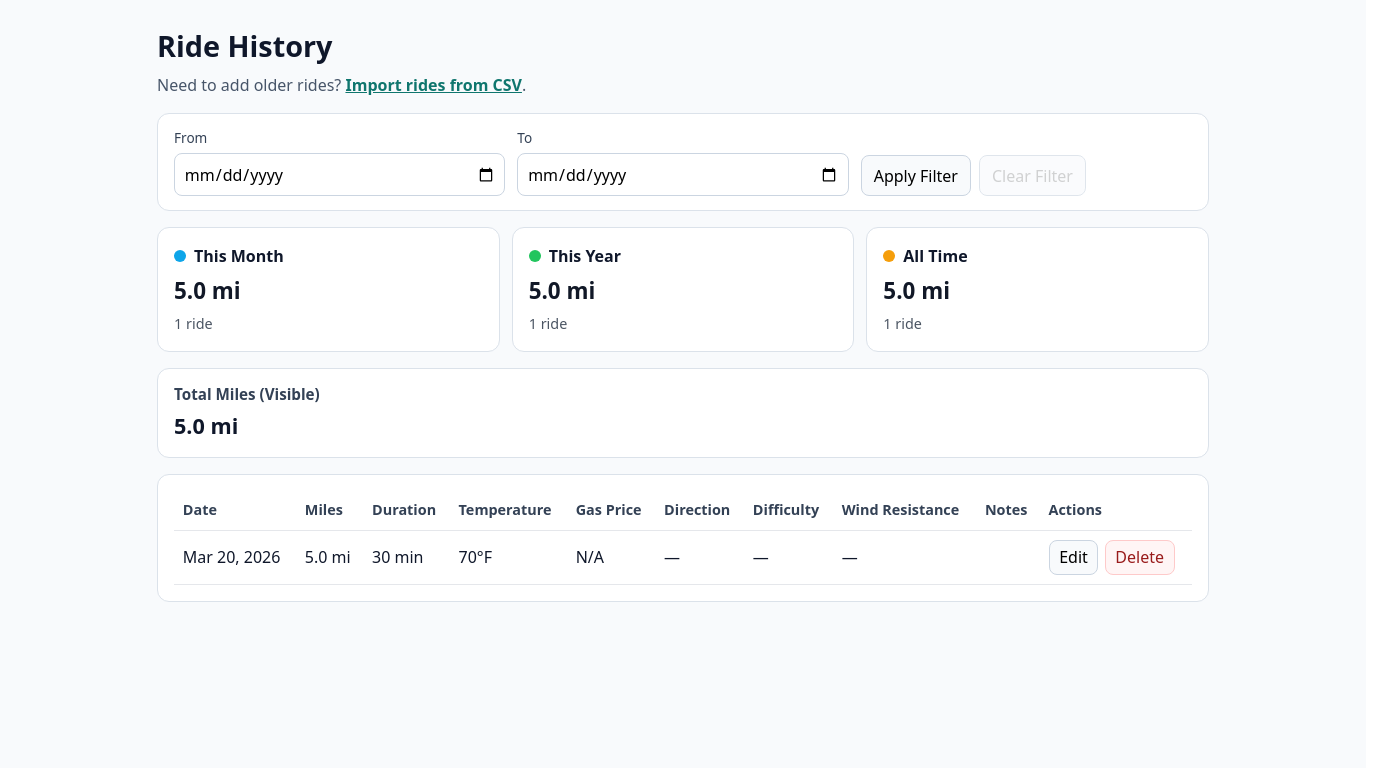
Test case: HistoryPage › should block save and show validation message for invalid miles
This screenshot has width=1378, height=768.
Click the button "Edit" at (1073, 557), box [1048,540,1098,575]
(page scrolled)
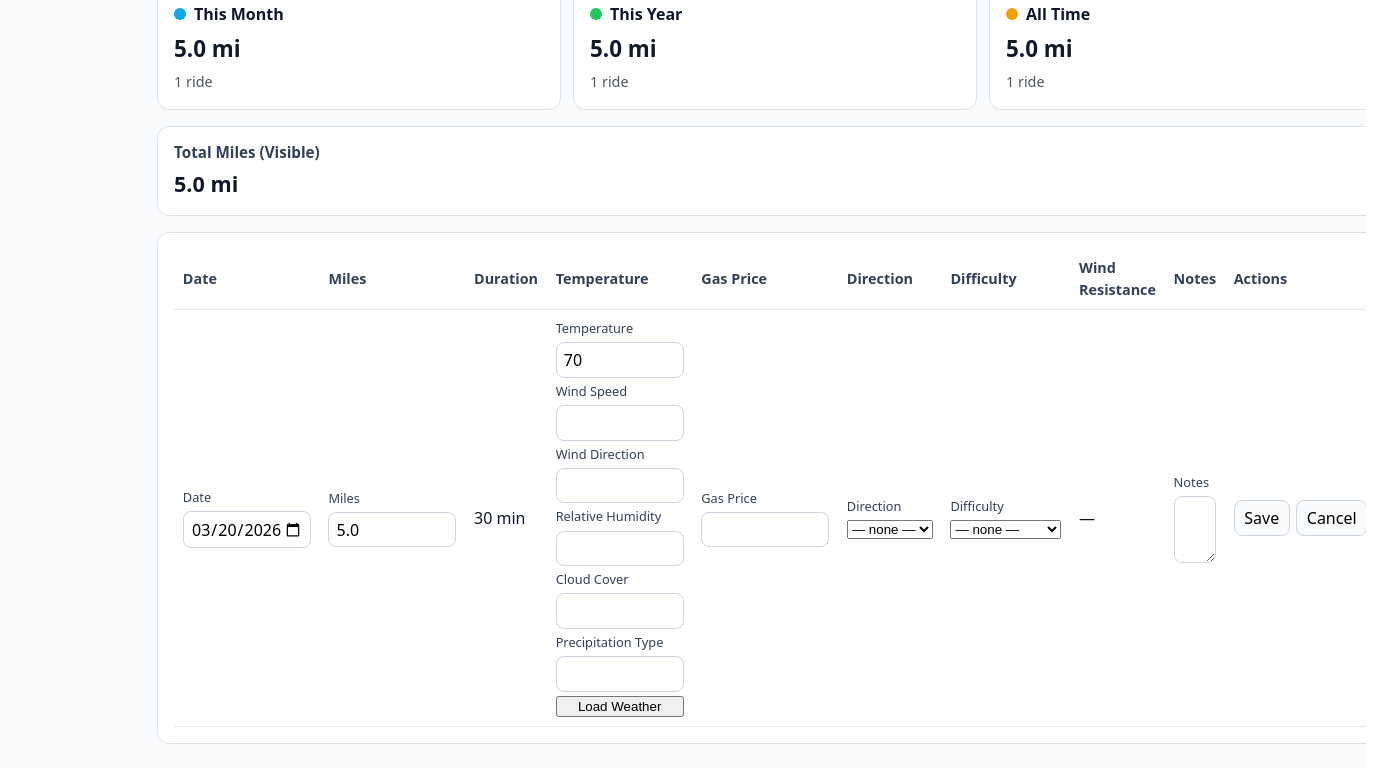
Replace the text in the number field labelled "Miles" with "0" at (392, 530), box [328,512,456,547]
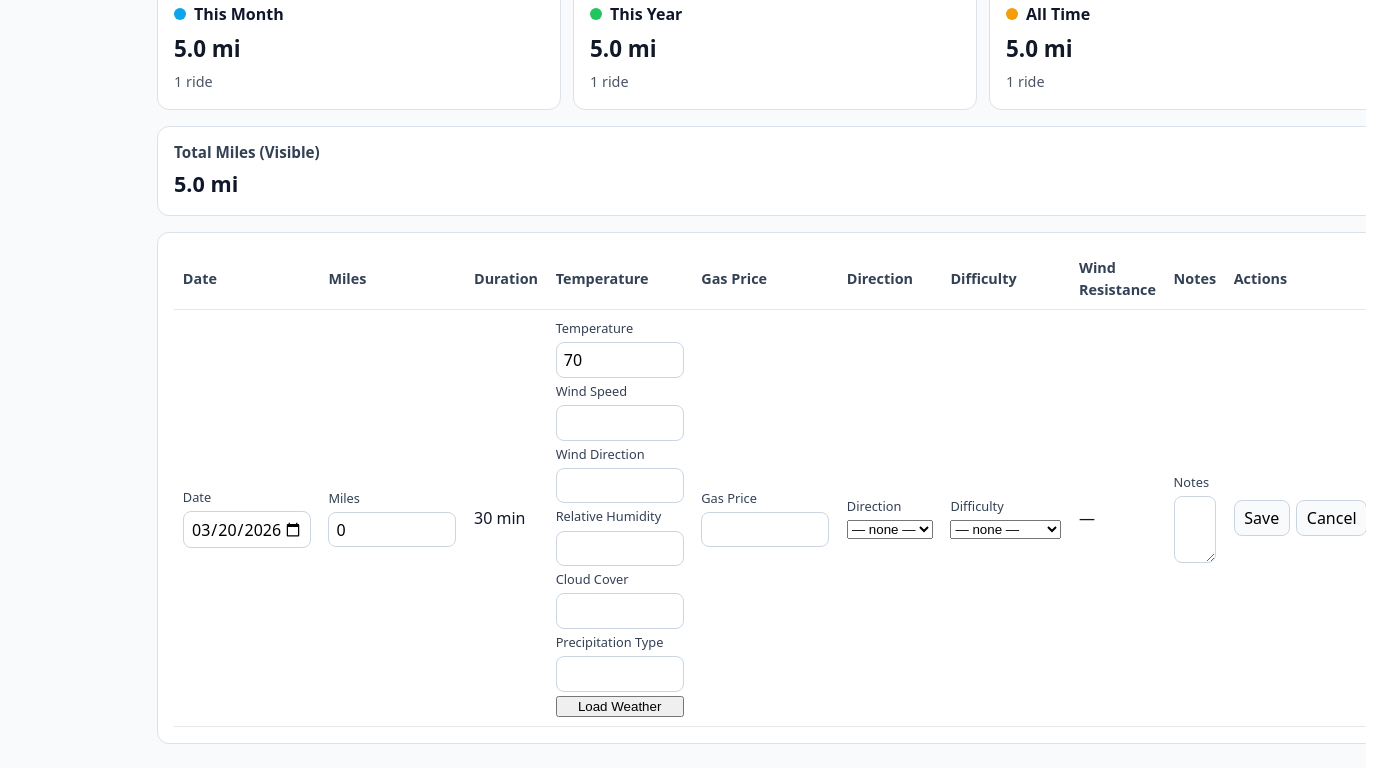
Click the button "Save" at (1262, 518), box [1234,500,1290,536]
(page scrolled)
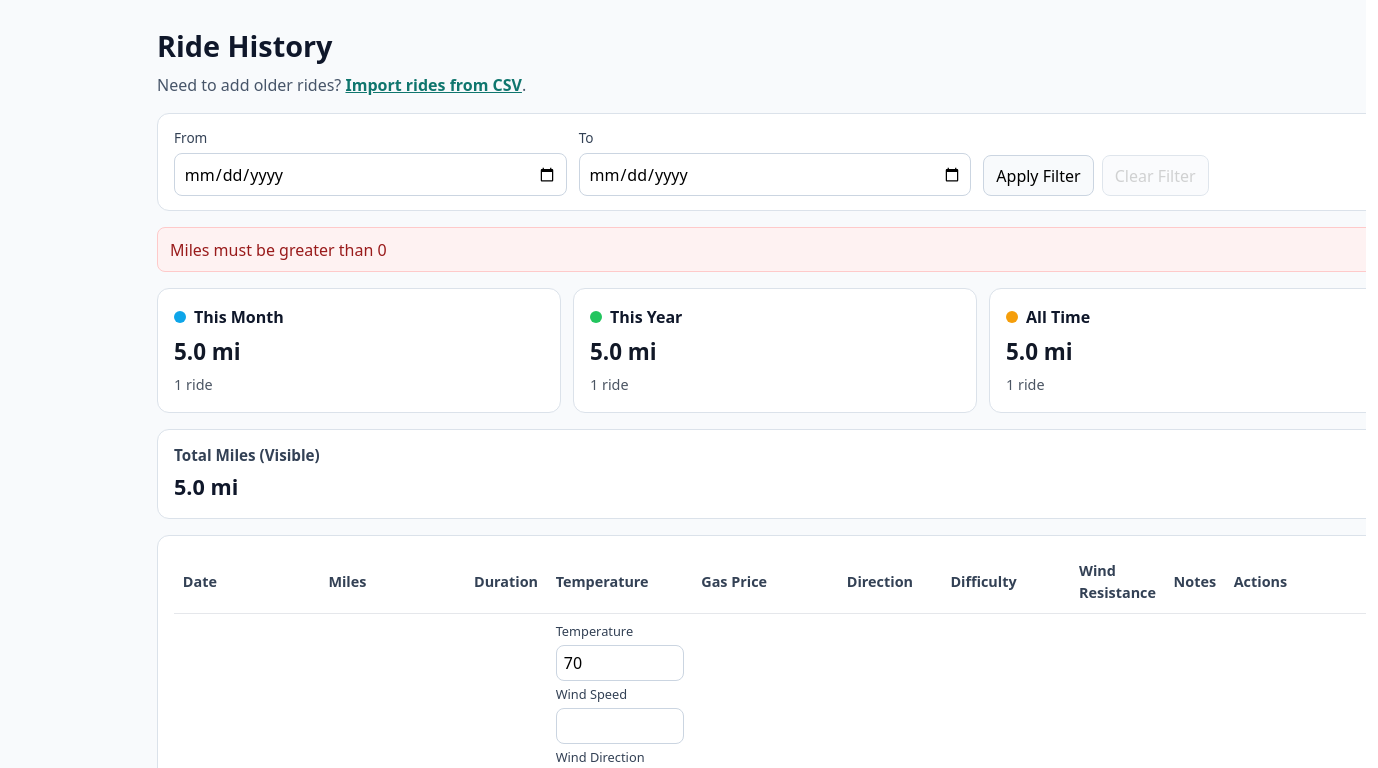
Check: the message reads "Miles must be greater than 0", box [170,239,387,261]
